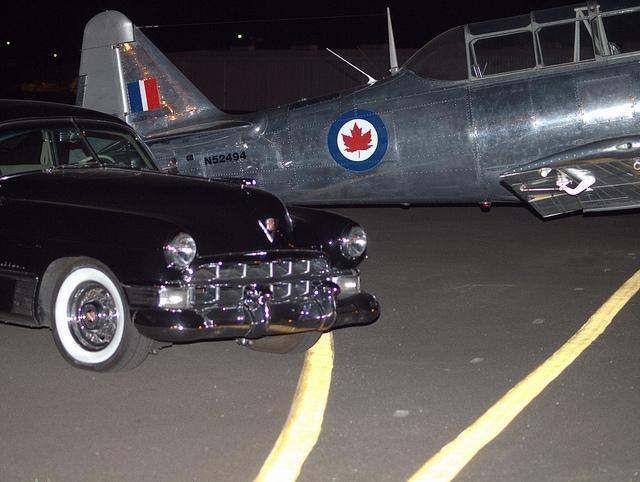car: (2, 103, 387, 374)
